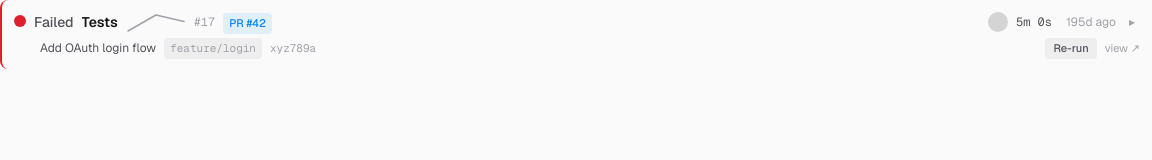
Test: WorkflowRunRow › Re-run button › shows pending state while the request is in-flight
This screenshot has width=1152, height=160.
What coordinates should you click on to do the following:
click the button "Re-run"
I would click on:
 (1071, 48)
Its box is [1045,38,1097,58].
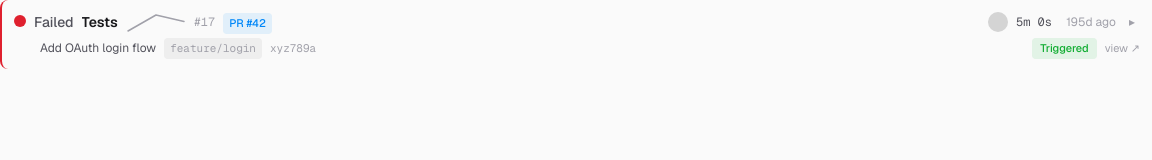
Expected: the button named "Re-running..." is disabled, [1032,38,1097,58]
